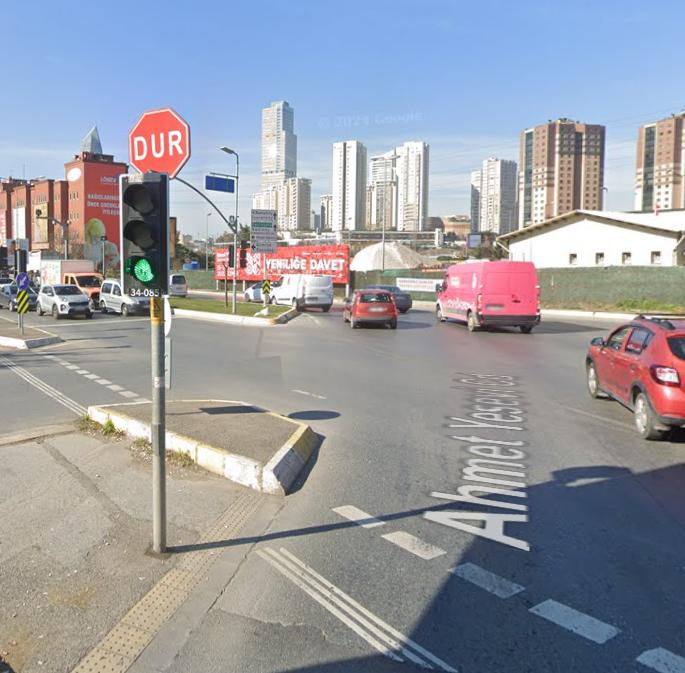greenlight: (112, 172, 178, 296)
stop: (124, 107, 196, 173)
